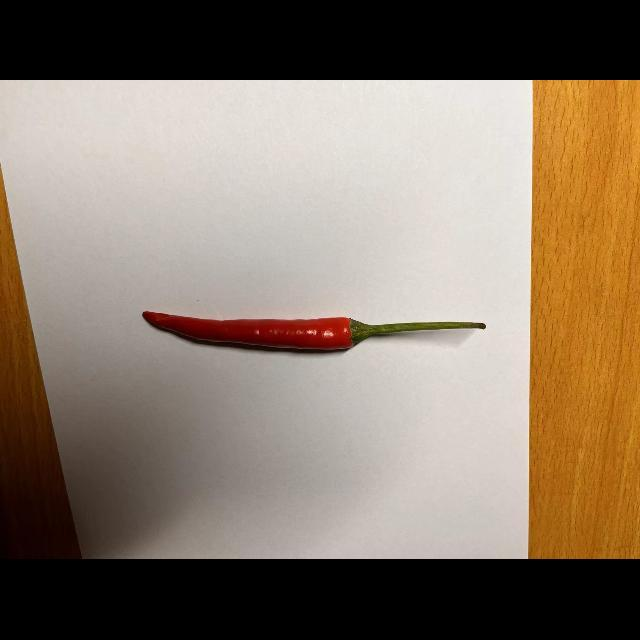chili_pepper: (138, 286, 492, 361)
